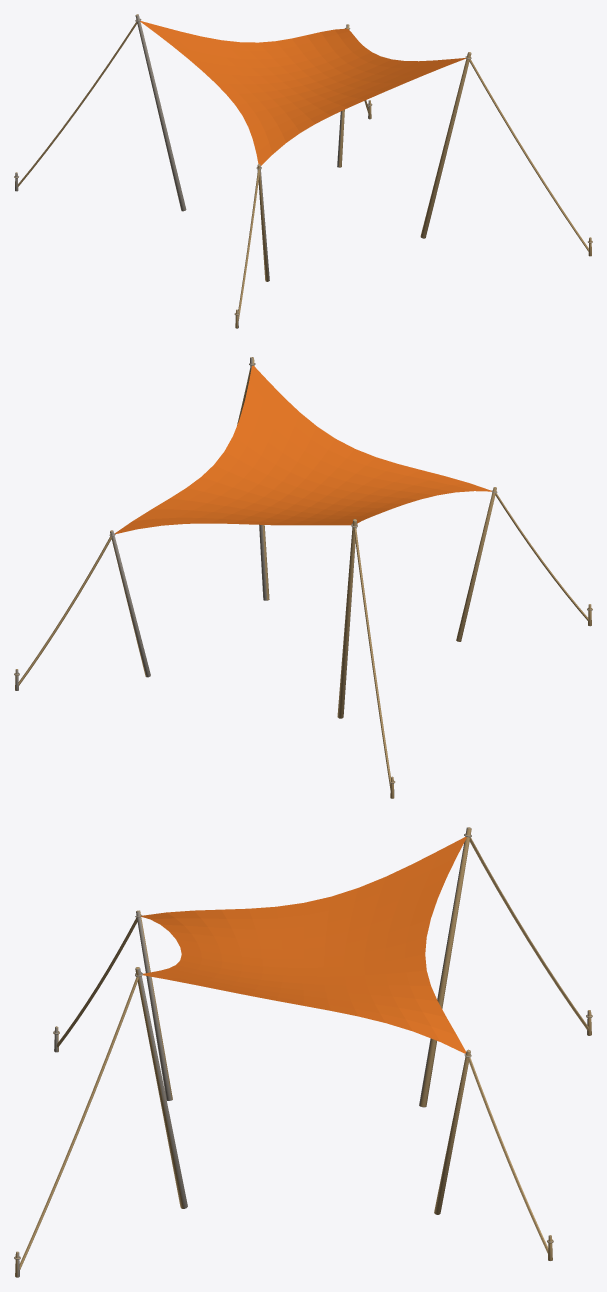
File: nomad_sail_quad_small.fbx
3 views of the same model, one above another, from view 1: azimuth 30°, elevation 25°; view 2: azimuth 150°, elevation 25°; view 3: azimuth 270°, elevation 25° (orthographic). The views are drawn at different scales.
Parts seen in each view (by area): view 1: S01_Canopy, S01_Mast3_SailRig_MastPole, S01_Mast1_SailRig_MastPole, S01_Guy1, S01_Mast_SailRig_MastPole, S01_Guy3, S01_Guy; view 2: S01_Canopy, S01_Mast3_SailRig_MastPole, S01_Guy3, S01_Mast_SailRig_MastPole, S01_Mast2_SailRig_MastPole; view 3: S01_Canopy, S01_Mast3_SailRig_MastPole, S01_Mast1_SailRig_MastPole, S01_Mast_SailRig_MastPole, S01_Guy1, S01_Mast2_SailRig_MastPole, S01_Guy3, S01_Guy2.
Boxes of the visible parts, <box> form: S01_Canopy: <box>140,21,465,165</box>; S01_Mast3_SailRig_MastPole: <box>135,14,186,211</box>; S01_Mast1_SailRig_MastPole: <box>420,52,471,238</box>; S01_Guy1: <box>469,59,588,251</box>; S01_Mast_SailRig_MastPole: <box>256,164,269,281</box>; S01_Guy3: <box>17,22,137,186</box>; S01_Guy: <box>238,169,259,320</box>; S01_Canopy: <box>115,365,491,534</box>; S01_Mast3_SailRig_MastPole: <box>337,519,357,718</box>; S01_Guy3: <box>353,527,390,789</box>; S01_Mast_SailRig_MastPole: <box>456,487,497,641</box>; S01_Mast2_SailRig_MastPole: <box>109,530,150,677</box>; S01_Canopy: <box>140,837,466,1053</box>; S01_Mast3_SailRig_MastPole: <box>419,827,471,1107</box>; S01_Mast1_SailRig_MastPole: <box>135,967,187,1208</box>; S01_Mast_SailRig_MastPole: <box>135,910,172,1100</box>; S01_Guy1: <box>19,977,138,1269</box>; S01_Mast2_SailRig_MastPole: <box>434,1049,471,1214</box>; S01_Guy3: <box>469,837,589,1030</box>; S01_Guy2: <box>468,1057,548,1253</box>.
Bounding box in the file's own units: 598 × 296 × 598.
